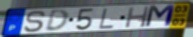5: (74, 7, 96, 31)
D: (44, 9, 70, 33)
H: (124, 5, 152, 29)
L: (97, 7, 115, 30)
M: (143, 4, 177, 29)
S: (23, 10, 48, 34)
